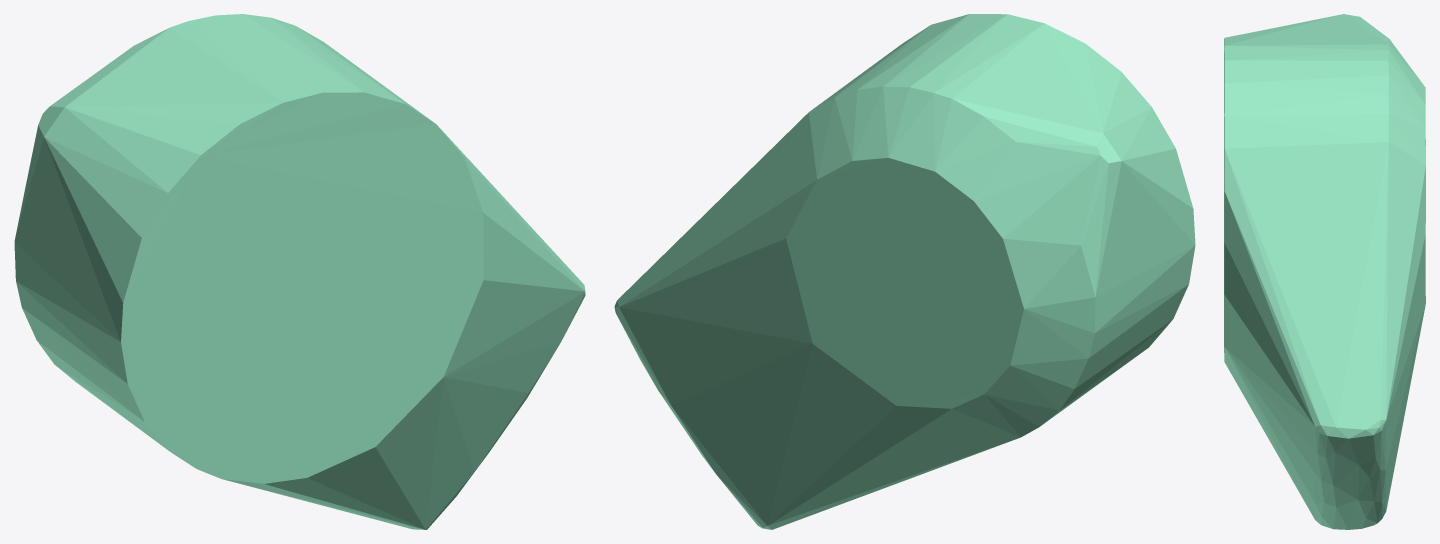
Rendered from dualpanda_Panda_leftArm_link7_respondable_coll_1.dae.
The picture shows the model from 3 angles, left to right: view 1: azimuth 30°, elevation 25°; view 2: azimuth 150°, elevation 25°; view 3: azimuth 270°, elevation 25°; orthographic projection. The views are drawn at different scales.
Parts seen in each view (by area): view 1: node; view 2: node; view 3: node.
Part boxes in pixels (x1,y1,x2,y2): node: (14, 14, 585, 529); node: (614, 14, 1195, 529); node: (1224, 14, 1425, 529).
Size of the model in its own units: 0.1284 by 0.1214 by 0.0549.
